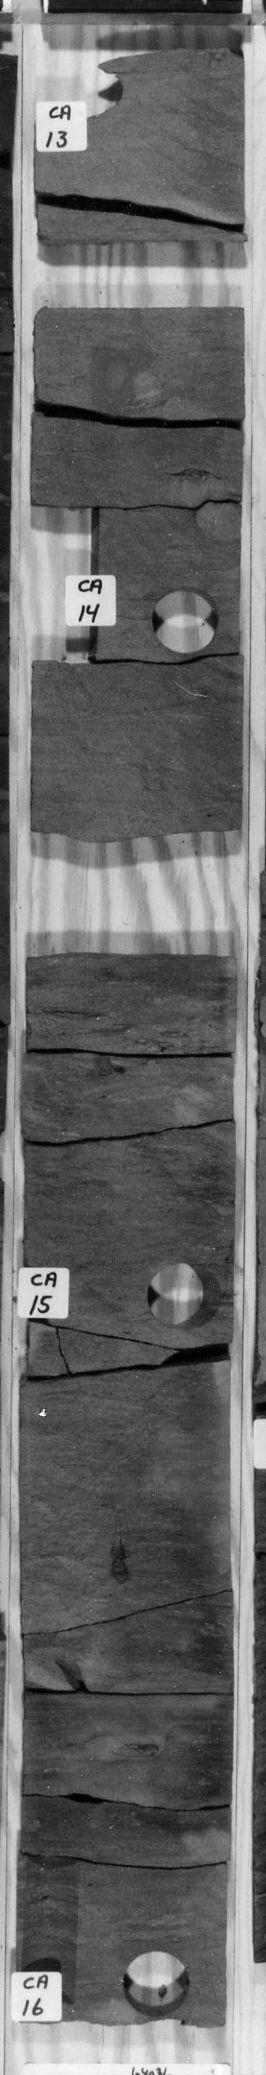hplug: (139, 1251, 222, 1333), (111, 1937, 196, 2017), (144, 582, 218, 656), (73, 65, 131, 127)
scal: (34, 232, 244, 314)
vplug: (32, 498, 102, 666), (20, 1847, 85, 2009)
